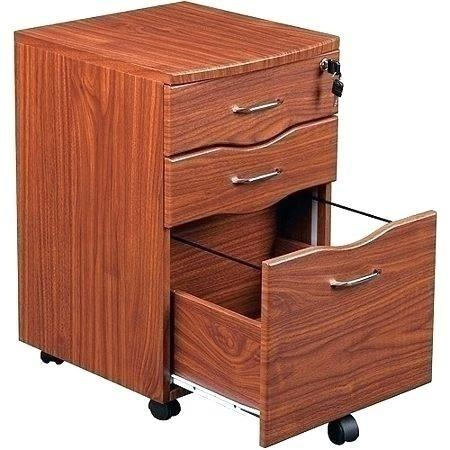cabinet_door: (265, 245, 429, 417), (169, 138, 340, 206), (168, 74, 340, 132)
handle: (229, 97, 284, 120), (329, 269, 379, 294), (229, 167, 280, 190)
